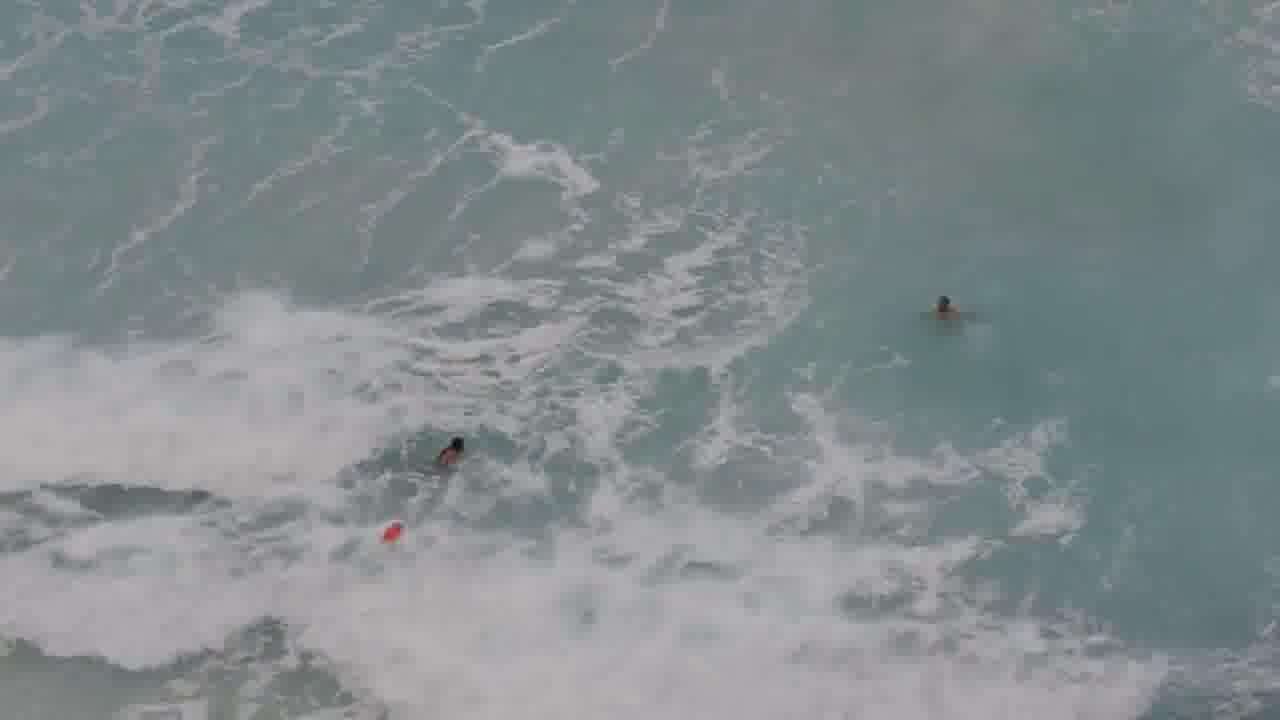swimmer: (417, 433, 480, 476), (921, 286, 970, 329)
